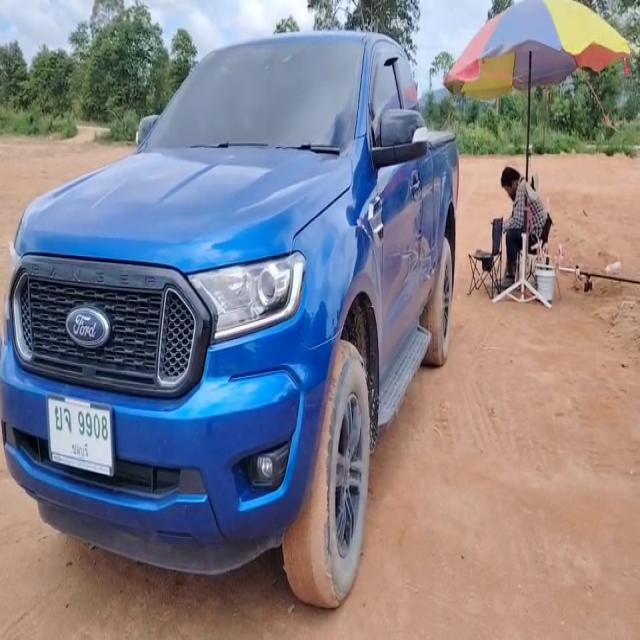Digit: (78, 410, 109, 441)
Licenseplate: (47, 395, 113, 478)
Provincename: (70, 439, 89, 461)
Thaichar: (54, 406, 72, 433)
